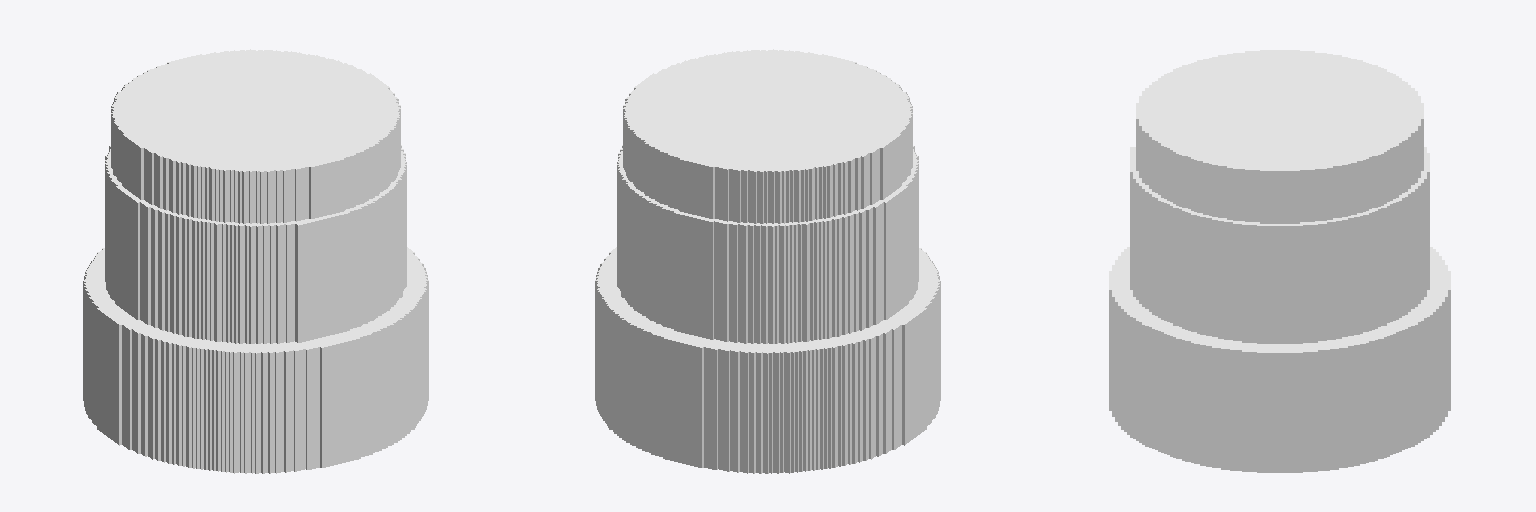
File: ground.obj
The picture shows the model from 3 angles: view 1: azimuth 30°, elevation 25°; view 2: azimuth 150°, elevation 25°; view 3: azimuth 270°, elevation 25°; orthographic projection.
Size of the model in its own units: 113 by 106 by 113.